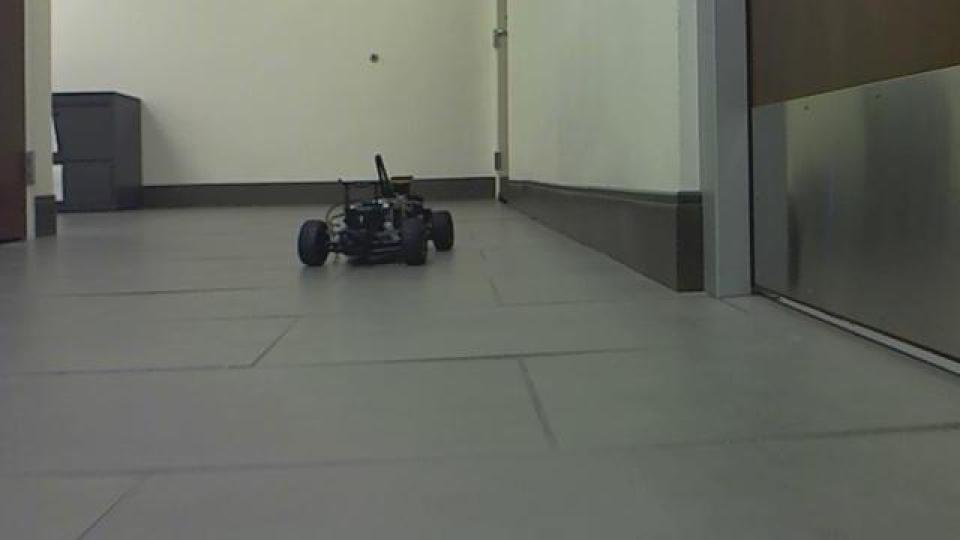car: (292, 152, 456, 270)
